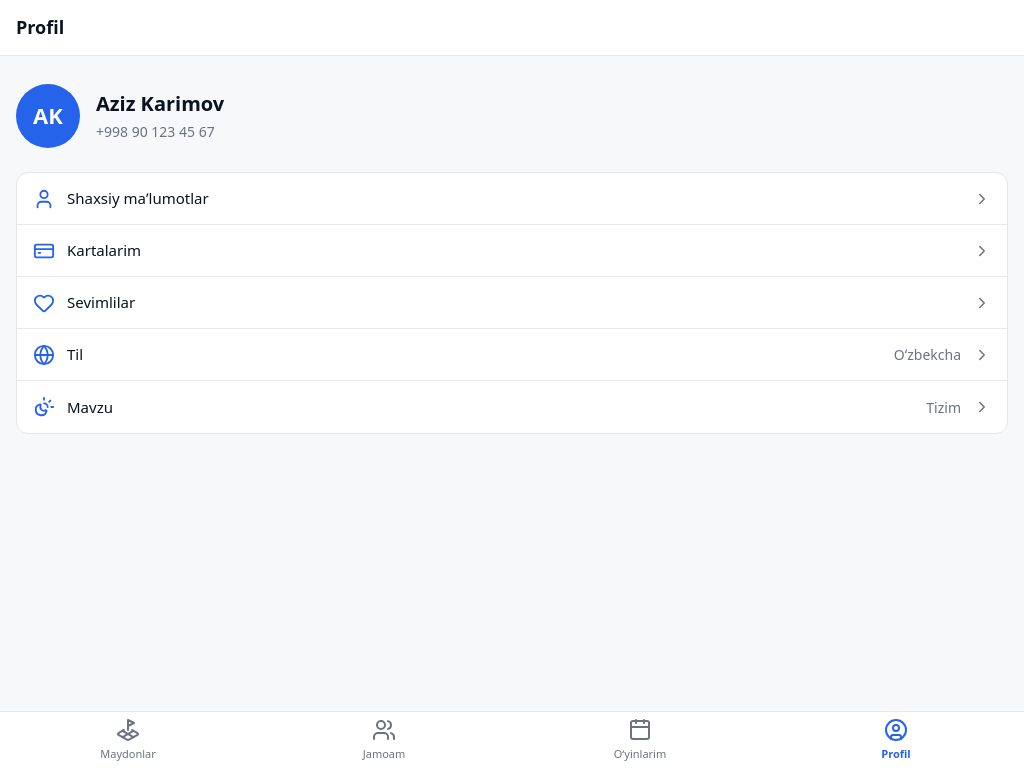
Test: Profil › keeps the language and tells the user when saving it fails
Click the button "Til Oʻzbekcha" at (927,354), box [17,329,1007,381]
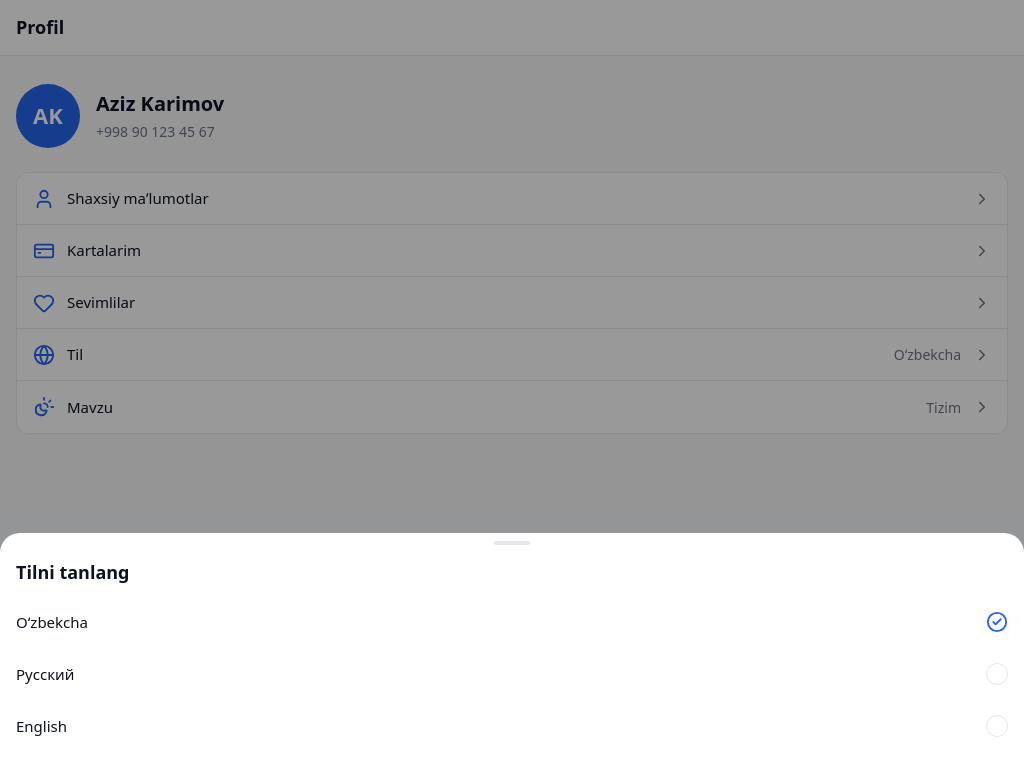
Click the radio button labelled "English" at (42,726), box [16,700,1008,752]
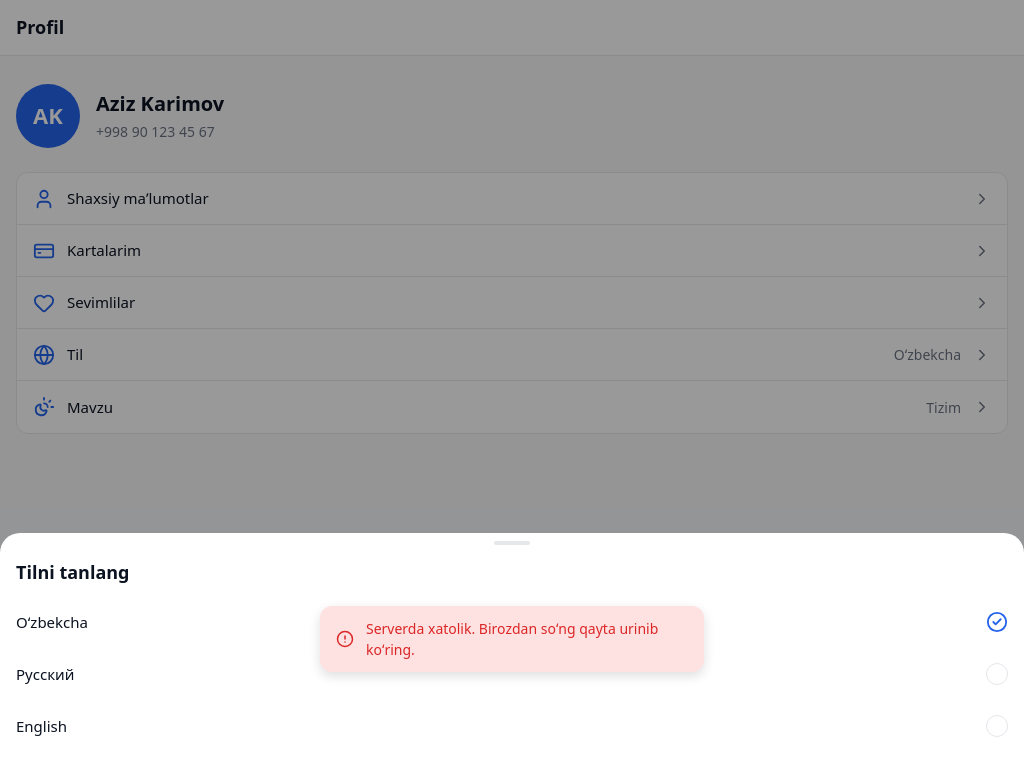
expect the text "Serverda xatolik. Birozdan soʻng qayta urinib koʻring." is shown: met, box [366,618,688,660]
